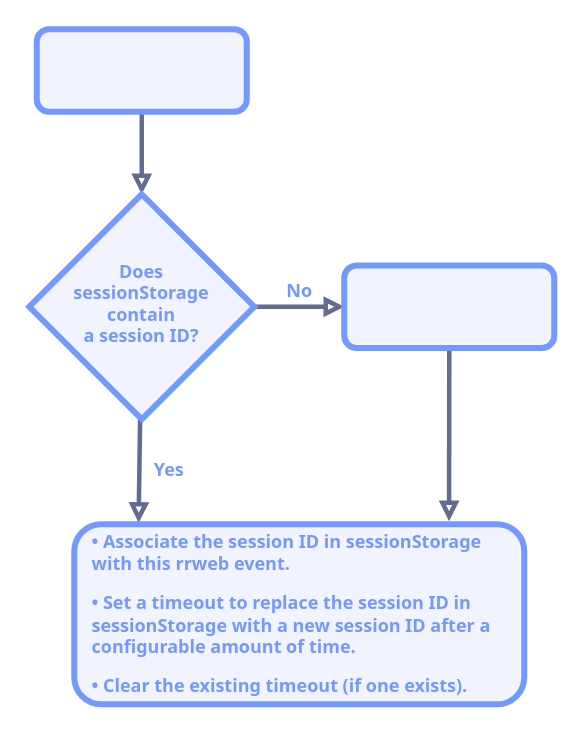
This 582x740 diagram has some shape labels left out. The centre of each missing label's shape, as x and y in pixels:
Generate a session ID and put it in sessionStorage.: the point at 448,306
rrweb records event: the point at 141,70
